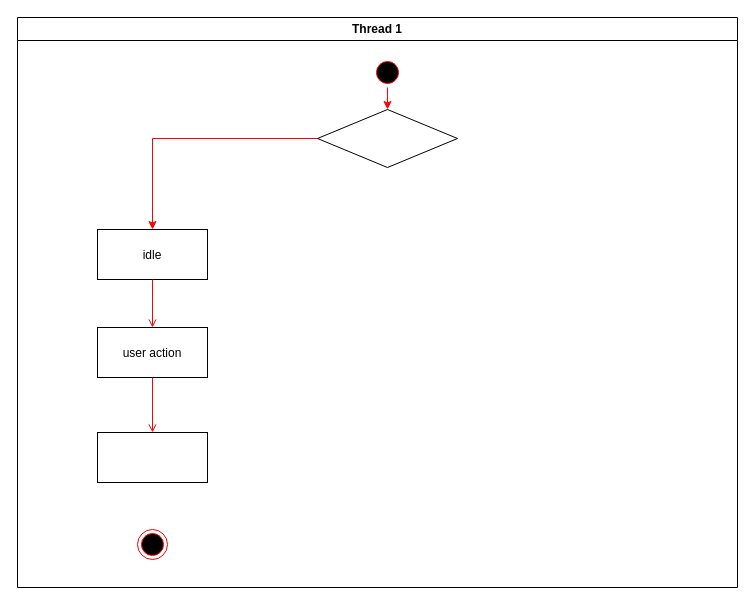
Some shapes in this 755 by 605 pixel diagram are drawn without their labels. Here are the shapes that lost their labels. From the top down, the centre of each, then its label:
At pixel 387 138: "`Manage account".
At pixel 152 457: "post command".
